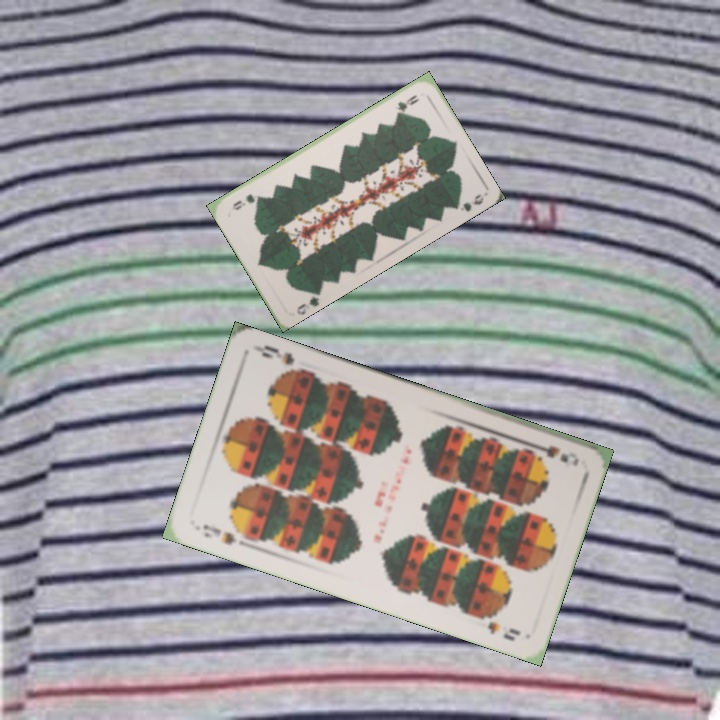G9: (292, 288, 323, 317), (392, 90, 422, 117)
S9: (524, 439, 582, 469), (199, 520, 249, 548)
